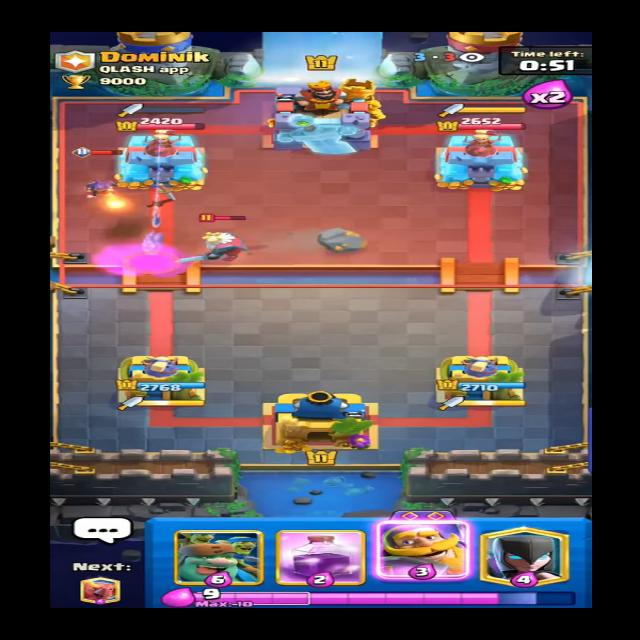evo-wizard: (72, 148, 127, 202)
royal-ghost: (190, 216, 258, 261)
